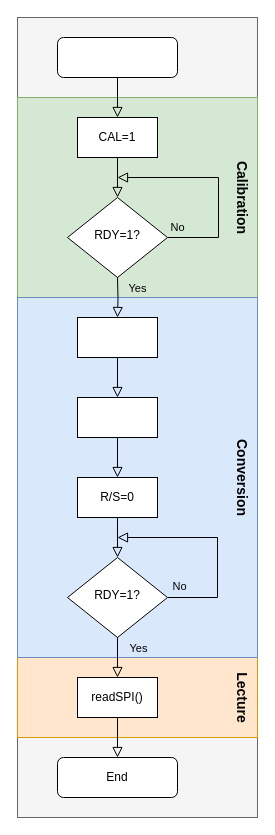
Image size: 275x835. Some labels were removed from this diagram. The centre of each missing label's shape, as x and y in pixels:
CAL=0 R/S=1: [117,337]
Start: [117,57]
WAIT: [117,417]
